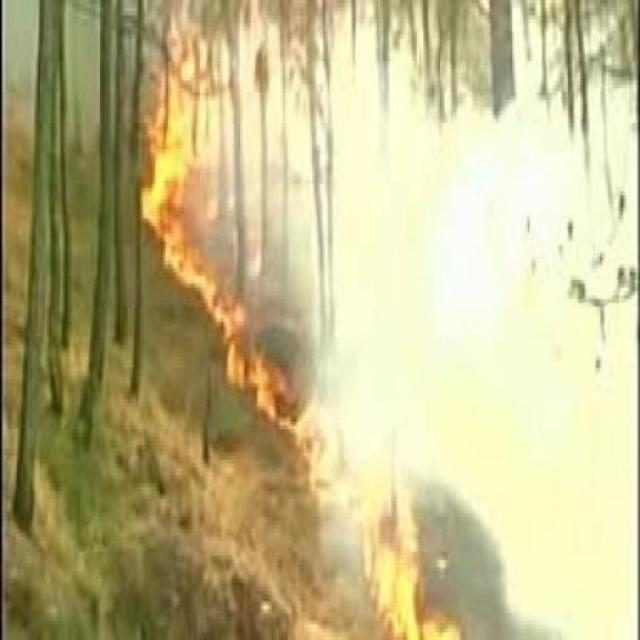Fire: (312, 417, 430, 640), (204, 248, 301, 450), (129, 86, 196, 304)
